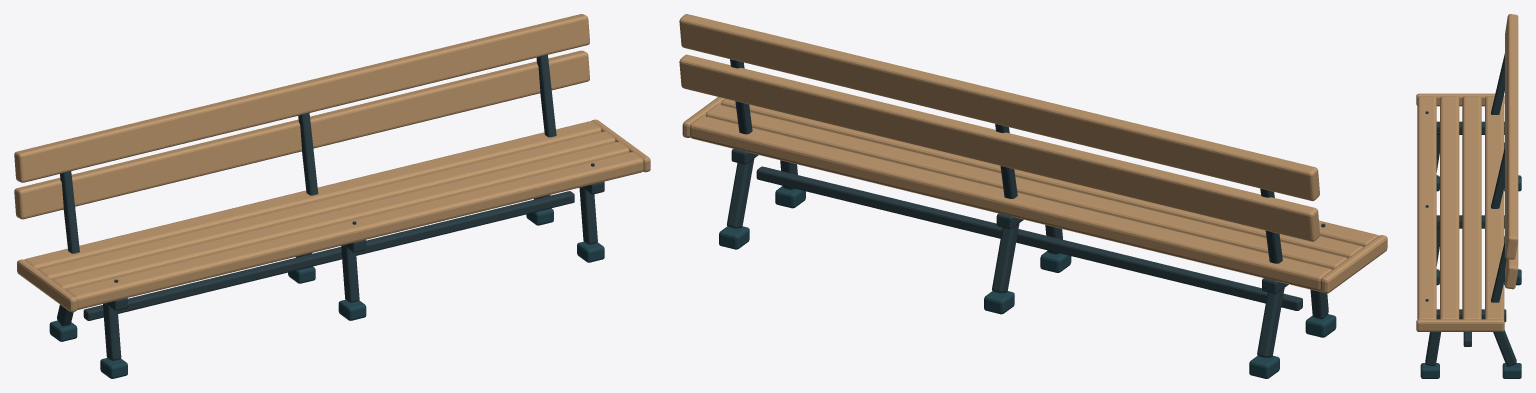
File: courtiq-bench.glb
3 views of the same model, side by side, from view 1: azimuth 30°, elevation 25°; view 2: azimuth 150°, elevation 25°; view 3: azimuth 270°, elevation 25° (orthographic). The views are drawn at different scales.
Visible parts, largest first — view 1: courtiq-bench — Pale maple bench finish, courtiq-bench — Powder coated graphite steel, courtiq-bench — Deep petrol upholstered padding; view 2: courtiq-bench — Pale maple bench finish, courtiq-bench — Powder coated graphite steel, courtiq-bench — Deep petrol upholstered padding; view 3: courtiq-bench — Pale maple bench finish, courtiq-bench — Powder coated graphite steel, courtiq-bench — Deep petrol upholstered padding.
Part boxes in pixels (x1,y1,x2,y2): courtiq-bench — Pale maple bench finish: [14, 14, 650, 312]; courtiq-bench — Powder coated graphite steel: [57, 54, 604, 360]; courtiq-bench — Deep petrol upholstered padding: [49, 208, 604, 378]; courtiq-bench — Pale maple bench finish: [679, 14, 1387, 293]; courtiq-bench — Powder coated graphite steel: [727, 59, 1328, 357]; courtiq-bench — Deep petrol upholstered padding: [719, 186, 1336, 378]; courtiq-bench — Pale maple bench finish: [1416, 14, 1518, 331]; courtiq-bench — Powder coated graphite steel: [1425, 53, 1516, 366]; courtiq-bench — Deep petrol upholstered padding: [1420, 175, 1521, 378].
Size of the model in its own units: 3.24 by 1.04 by 0.6325.
